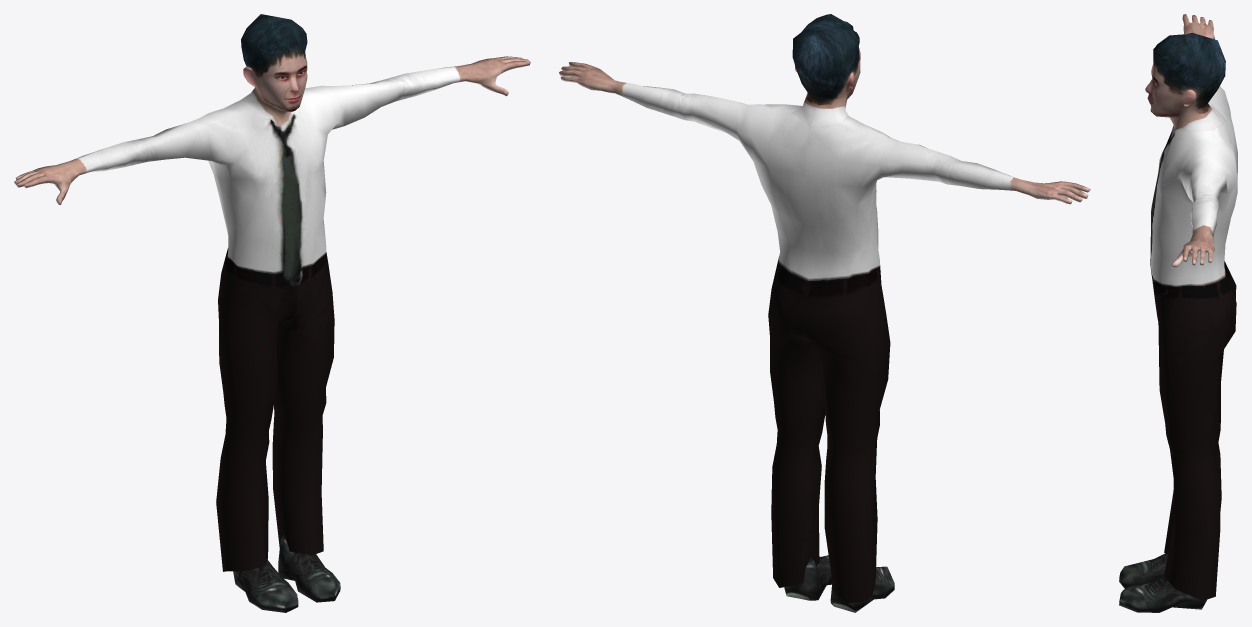
File: indian_bike__driving_3d_npc_3d__model.glb
The picture shows the model from 3 angles, left to right: view 1: azimuth 30°, elevation 25°; view 2: azimuth 150°, elevation 25°; view 3: azimuth 270°, elevation 25°; orthographic projection. The views are drawn at different scales.
Parts seen in each view (by area): view 1: SubMesh_0_DefaultMaterial_0; view 2: SubMesh_0_DefaultMaterial_0; view 3: SubMesh_0_DefaultMaterial_0.
Part boxes in pixels (bbox=[...]): SubMesh_0_DefaultMaterial_0: bbox=[14, 14, 530, 612]; SubMesh_0_DefaultMaterial_0: bbox=[559, 14, 1090, 612]; SubMesh_0_DefaultMaterial_0: bbox=[1119, 14, 1237, 612].
Bounding box in the file's own units: 4.41 × 4.63 × 0.8921.
Materials: 1 (1 with a texture image).
